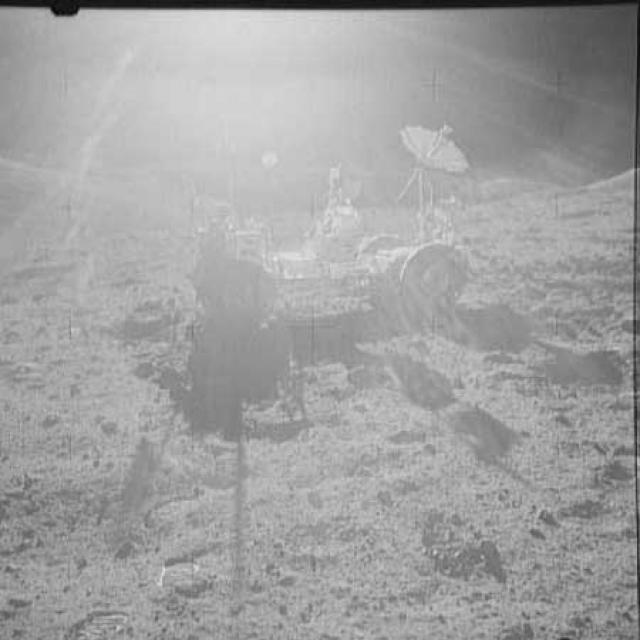artifact: (172, 110, 484, 360)
crater: (8, 259, 91, 281), (548, 198, 604, 227)
